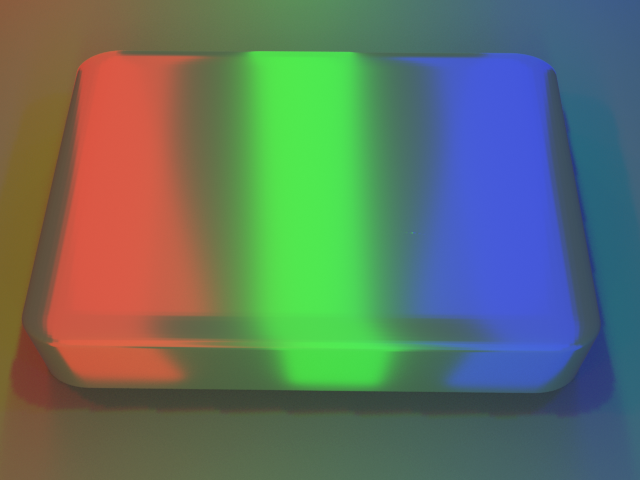scratch: (388, 210, 460, 253)
